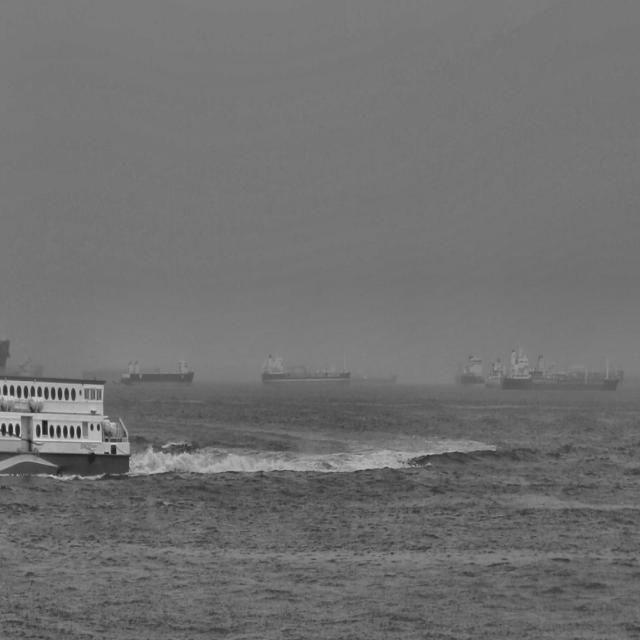ship: (0, 373, 133, 476), (500, 344, 620, 392), (260, 349, 352, 385), (118, 356, 195, 386), (457, 351, 484, 388), (483, 355, 503, 389)
